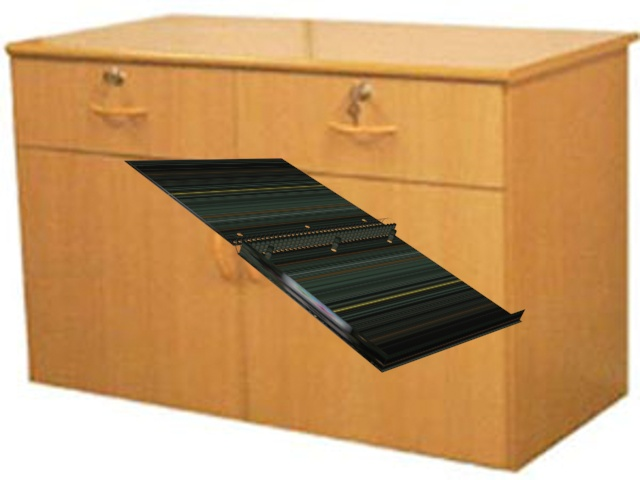paper_notebook: (121, 153, 528, 384)
